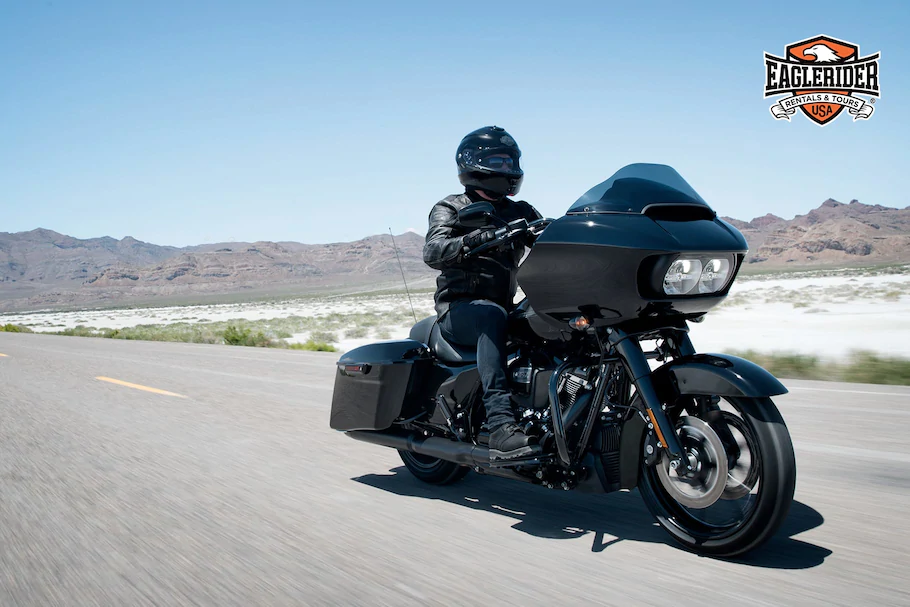helmet: (413, 110, 665, 451)
